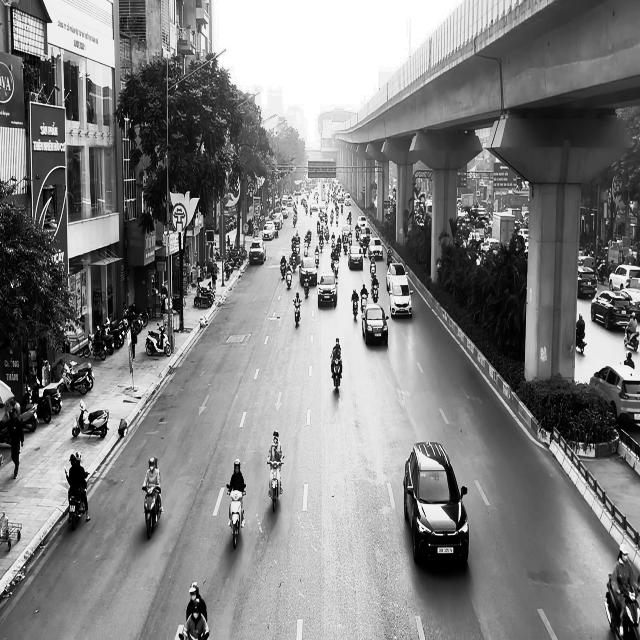car: (403, 440, 469, 565), (588, 363, 640, 425), (362, 304, 388, 345), (317, 271, 338, 307)
motorbike: (604, 572, 640, 640), (64, 468, 89, 529), (72, 399, 109, 438), (226, 486, 246, 548), (142, 485, 162, 539), (267, 456, 284, 512), (145, 322, 171, 357), (624, 326, 639, 351), (331, 358, 342, 390), (575, 333, 587, 354), (293, 299, 301, 328), (352, 298, 358, 321)
